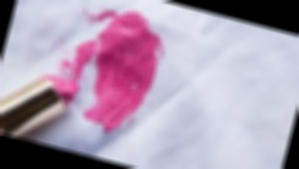lipstick: (52, 2, 177, 138)
